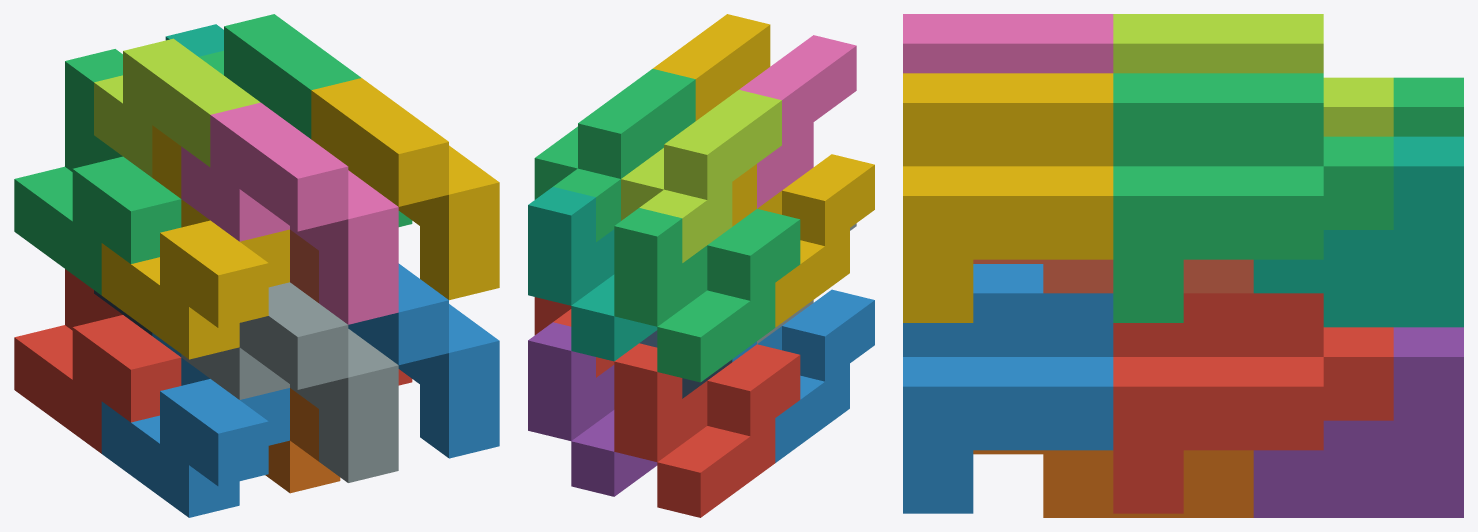
The model's file is tiling.obj.
3 views of the same model, side by side, from view 1: azimuth 30°, elevation 25°; view 2: azimuth 150°, elevation 25°; view 3: azimuth 270°, elevation 25° (orthographic). The views are drawn at different scales.
Visible parts, largest first — view 1: copy_2_domain_4, copy_2_domain_8, copy_2_domain_2, copy_1_domain_4, copy_1_domain_3, copy_1_domain_2, copy_1_domain_1, copy_2_domain_6, copy_2_domain_3, copy_2_domain_7, copy_1_domain_6, copy_1_domain_8 (+1 smaller); view 2: copy_1_domain_3, copy_1_domain_1, copy_2_domain_3, copy_2_domain_7, copy_1_domain_7, copy_1_domain_5, copy_1_domain_4, copy_1_domain_2, copy_2_domain_4, copy_2_domain_8, copy_2_domain_5, copy_2_domain_1; view 3: copy_2_domain_7, copy_2_domain_8, copy_2_domain_5, copy_2_domain_6, copy_1_domain_5, copy_1_domain_7, copy_2_domain_3, copy_2_domain_4, copy_1_domain_6, copy_1_domain_8, copy_1_domain_3.
Part boxes in pixels (x1,y1,x2,y2): copy_2_domain_4: (181, 102, 398, 324); copy_2_domain_8: (311, 78, 499, 300); copy_2_domain_2: (181, 282, 398, 482); copy_1_domain_4: (101, 125, 289, 359); copy_1_domain_3: (14, 49, 181, 295); copy_1_domain_2: (101, 333, 289, 517); copy_1_domain_1: (14, 269, 181, 453); copy_2_domain_6: (348, 263, 499, 458); copy_2_domain_3: (94, 38, 260, 177); copy_2_domain_7: (199, 14, 412, 226); copy_1_domain_6: (265, 388, 340, 493); copy_1_domain_8: (290, 229, 318, 302); copy_1_domain_3: (614, 208, 800, 382); copy_1_domain_1: (614, 343, 800, 517); copy_2_domain_3: (621, 90, 781, 262); copy_2_domain_7: (534, 68, 695, 241); copy_1_domain_7: (528, 187, 657, 361); copy_1_domain_5: (528, 322, 657, 496); copy_1_domain_4: (732, 154, 874, 327); copy_1_domain_2: (732, 289, 874, 462); copy_2_domain_4: (739, 35, 856, 208); copy_2_domain_8: (653, 14, 770, 120); copy_2_domain_5: (534, 297, 614, 377); copy_2_domain_1: (639, 330, 732, 398); copy_2_domain_7: (1113, 73, 1393, 322); copy_2_domain_8: (903, 73, 1113, 322); copy_2_domain_5: (1113, 293, 1393, 513); copy_2_domain_6: (903, 264, 1113, 513); copy_1_domain_5: (1253, 327, 1463, 517); copy_1_domain_7: (1253, 136, 1463, 327); copy_2_domain_3: (1113, 14, 1393, 136); copy_2_domain_4: (903, 14, 1113, 73); copy_1_domain_6: (973, 450, 1253, 517); copy_1_domain_8: (973, 259, 1253, 293); copy_1_domain_3: (1393, 77, 1463, 136).
Bounding box in the file's own units: 5 × 7 × 8.
